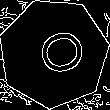O_W: (23, 24, 85, 82)
